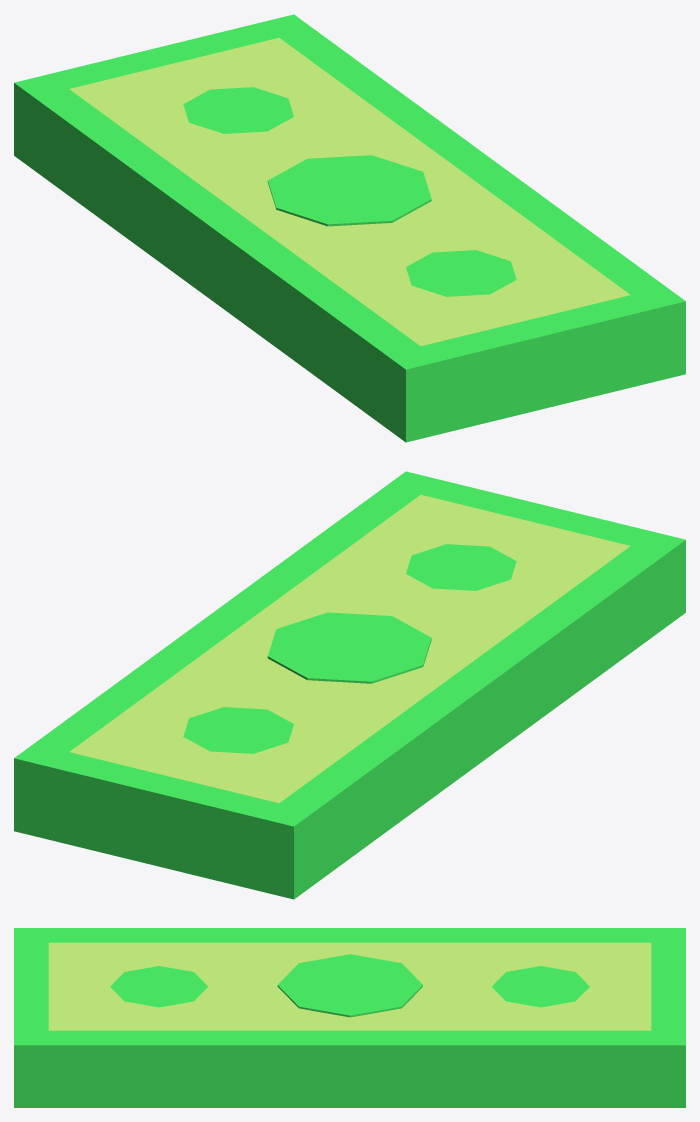
Rendered from Money.fbx.
3 views of the same model, one above another, from view 1: azimuth 30°, elevation 25°; view 2: azimuth 150°, elevation 25°; view 3: azimuth 270°, elevation 25° (orthographic). The views are drawn at different scales.
Visible parts, largest first — view 1: Money; view 2: Money; view 3: Money.
Boxes of the visible parts, bbox=[...] form: Money: bbox=[14, 14, 685, 442]; Money: bbox=[14, 471, 685, 899]; Money: bbox=[14, 928, 685, 1107].
Bounding box in the file's own units: 212 × 55.73 × 513.
